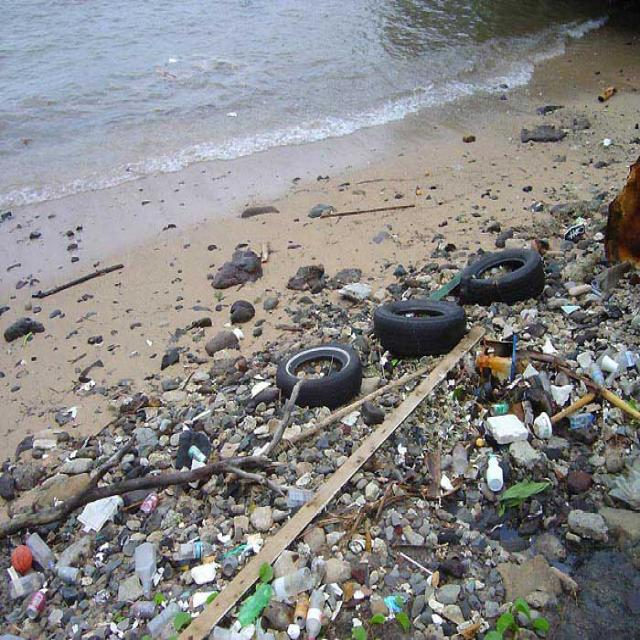garbage: (69, 234, 636, 640)
